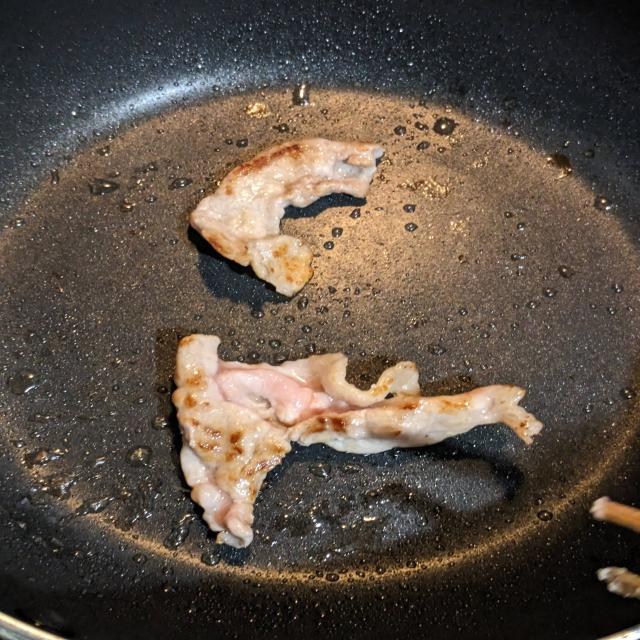NG undercooked pork,: (156, 326, 551, 554)
OK cooked pork,: (188, 134, 391, 309)
